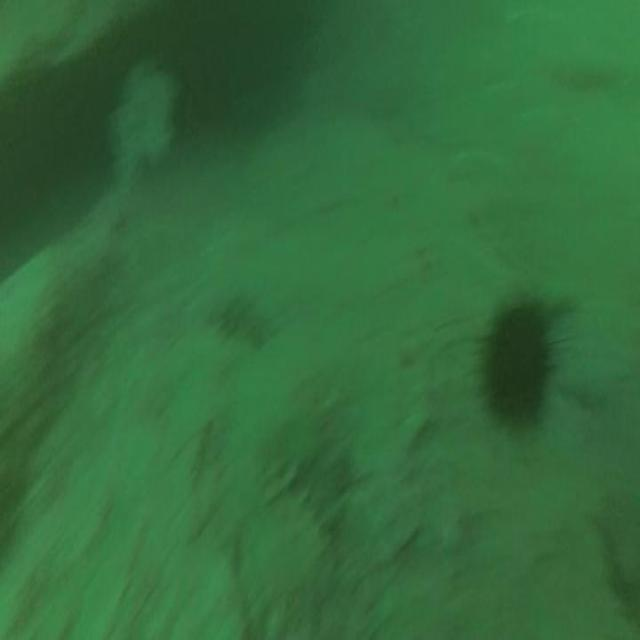echinus: (478, 289, 551, 436)
